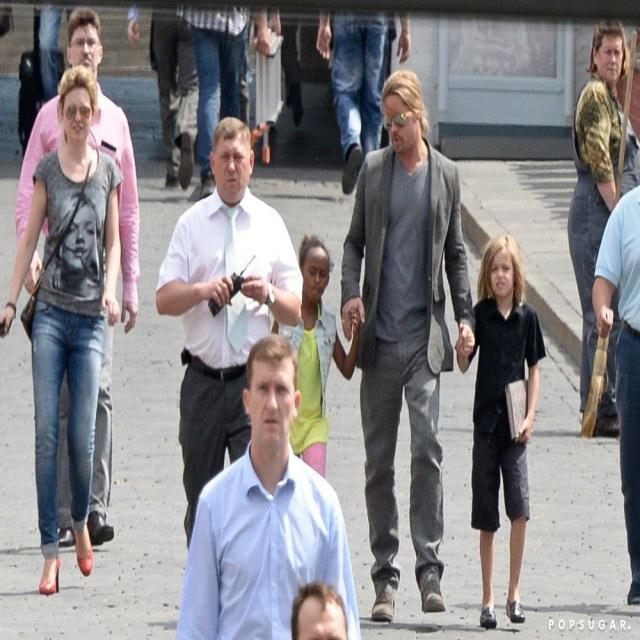body: (0, 0, 418, 201), (338, 66, 477, 628), (12, 4, 144, 551), (152, 114, 304, 558), (0, 63, 124, 598), (174, 331, 363, 640), (450, 235, 545, 632), (562, 13, 639, 440), (265, 232, 363, 489), (587, 177, 640, 607), (282, 575, 355, 640)
